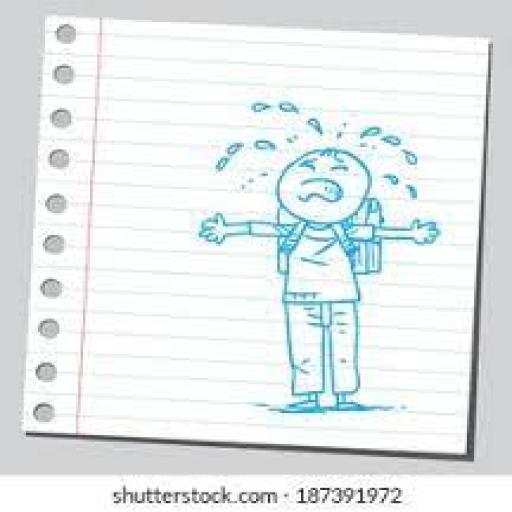person: (190, 97, 454, 416)
